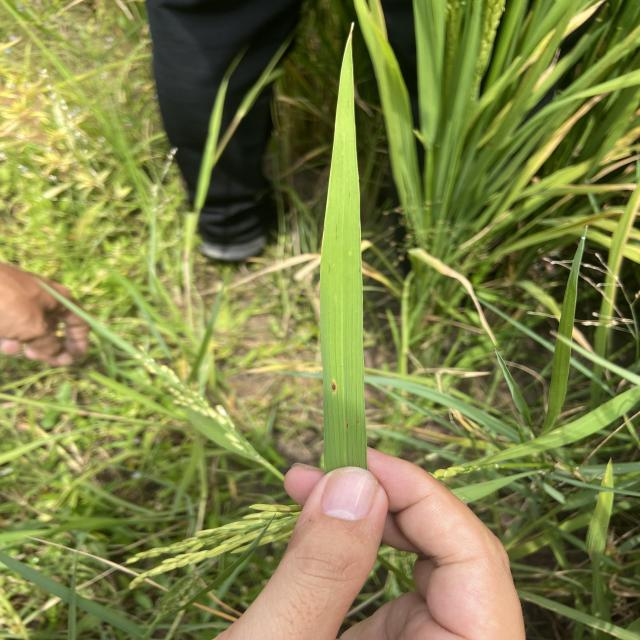Dao on: (331, 382, 337, 393)
